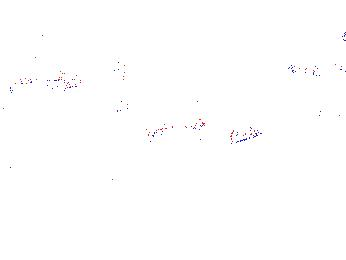X-ray fish: (21, 50, 75, 76), (54, 216, 91, 238), (28, 23, 65, 44), (95, 95, 133, 112)
glassfish: (142, 118, 261, 148), (9, 72, 87, 92)
red belly glassfish: (194, 112, 216, 134), (112, 55, 126, 83)
redtail glassfish: (288, 60, 346, 80), (313, 106, 346, 126)
